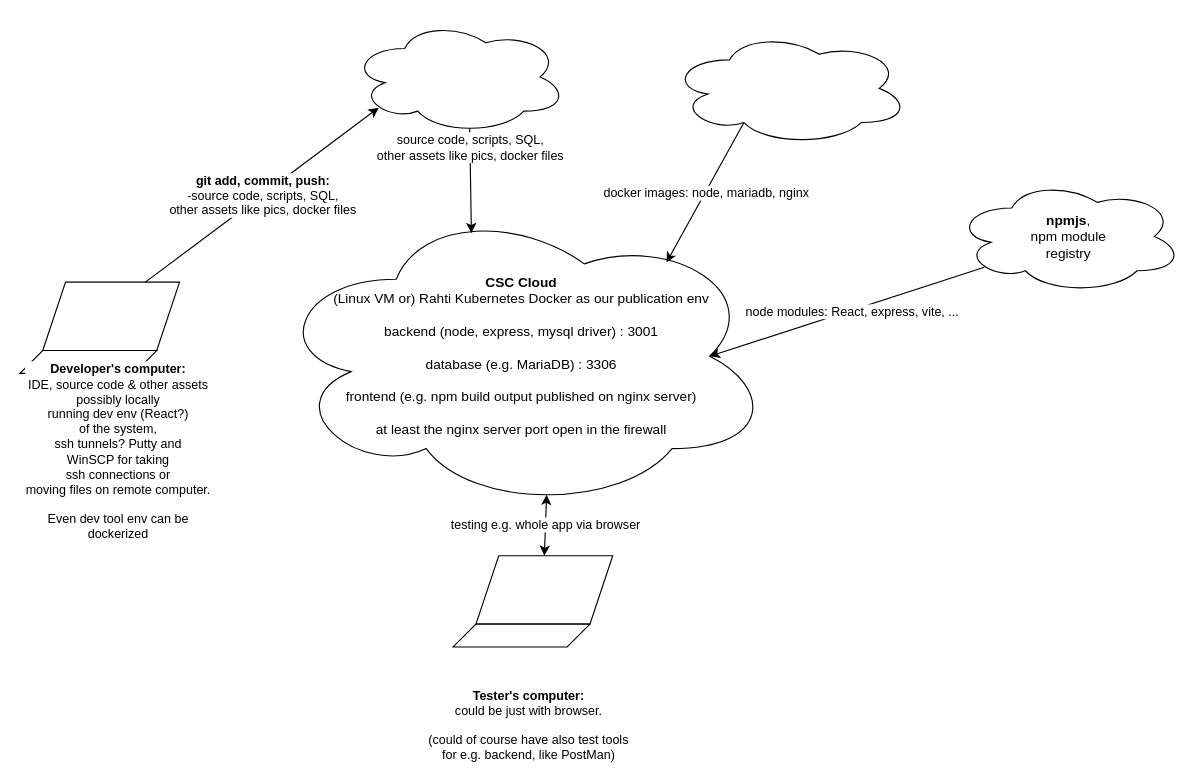
Image size: 1203x782. Some labels were removed from this diagram. Here are the shapes that lost their labels. From the top down, the box of each, then its label:
(349, 19, 567, 134): GitHub remote repo server
(669, 30, 909, 145): Docker Hub docker image registry
